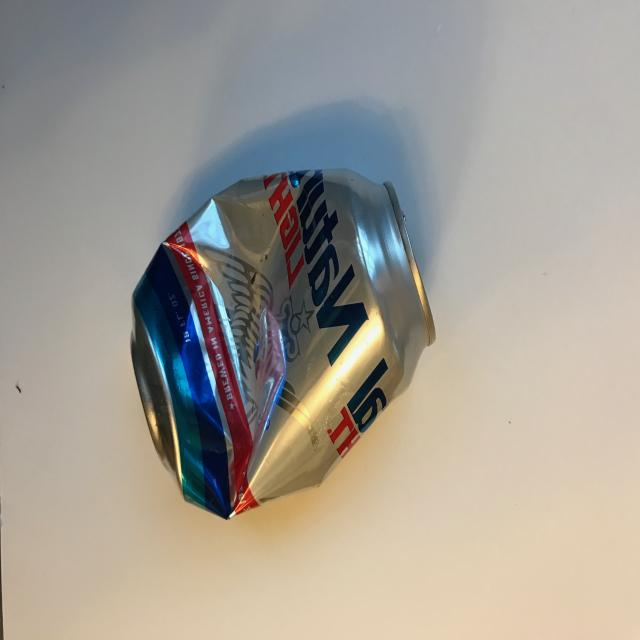metal: (130, 166, 436, 520)
